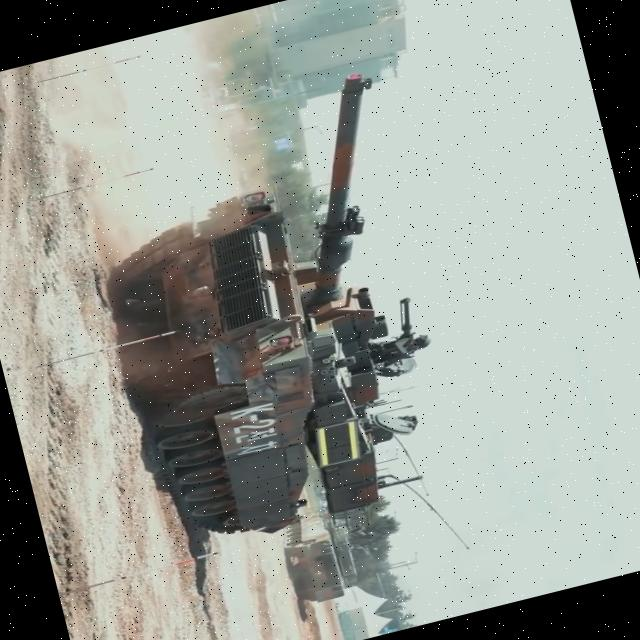korea tank: (73, 68, 477, 571)
